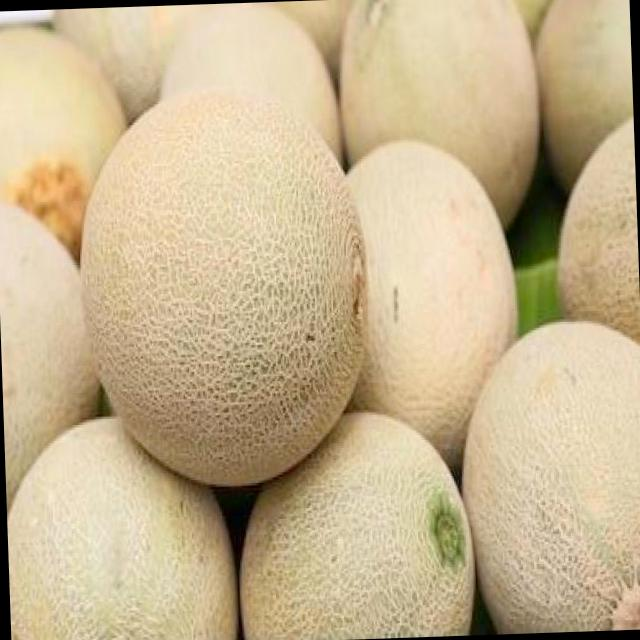Hami Melon: (75, 88, 371, 500), (456, 313, 640, 635), (347, 135, 523, 455), (233, 408, 475, 640), (3, 413, 234, 640), (340, 0, 543, 225), (158, 2, 344, 176)
